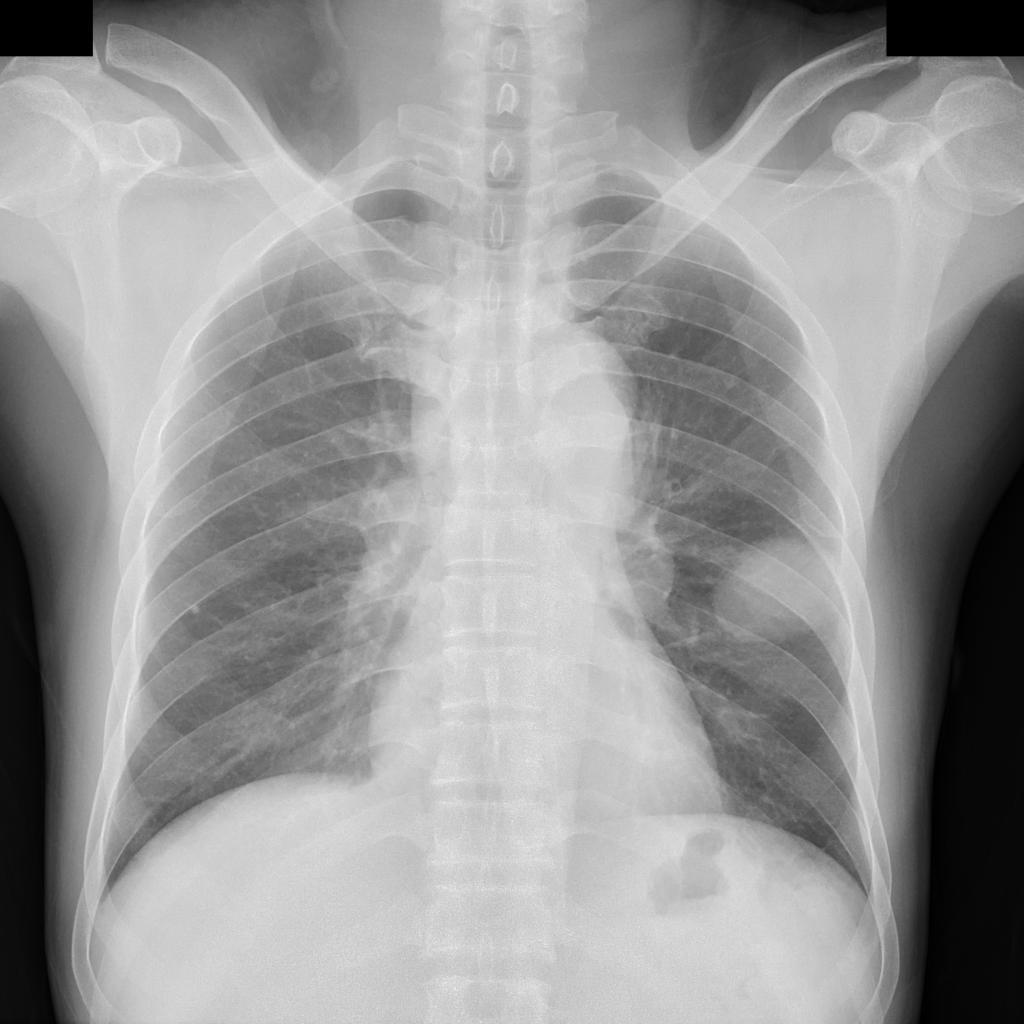Nodule: (714, 534, 848, 641)
